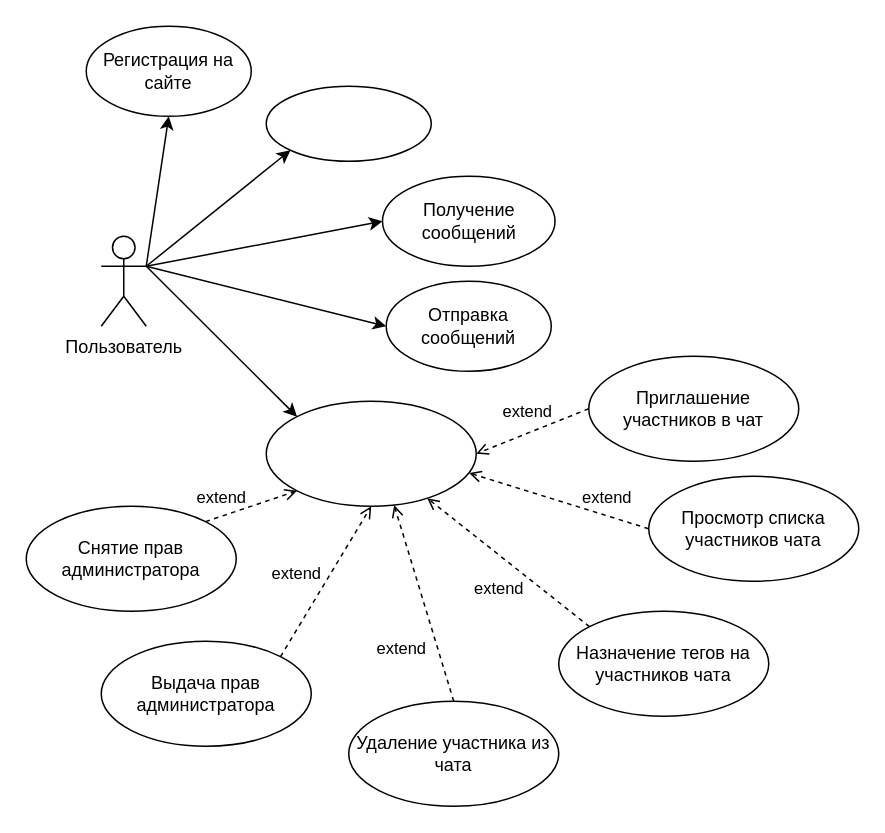
The diagram is 885 pixels wide and 833 high, and some of its shapes have lost their labels. Here are the shapes that lost their labels. From the top down, the centre of each, then its label:
point (348, 123): Авторизация на сайте
point (370, 453): Создание чата
